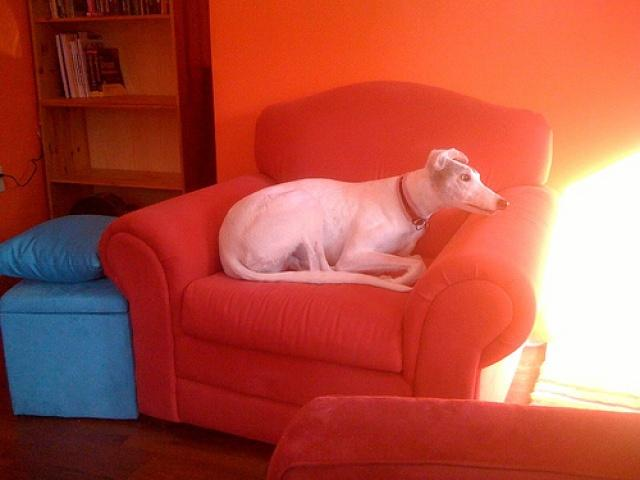Rak: (27, 0, 187, 215)
